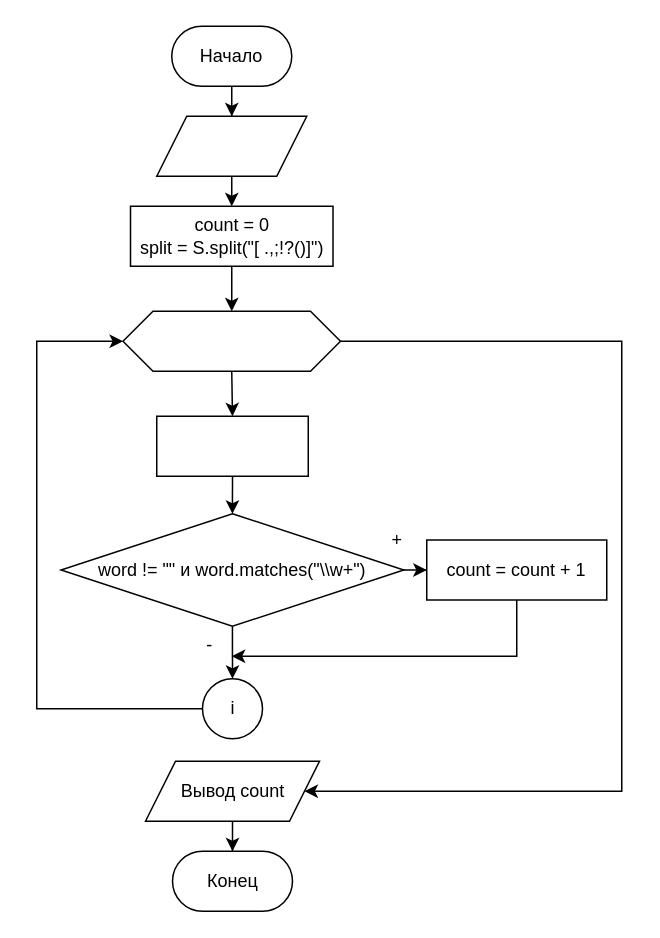
This 660x938 diagram has some shape labels left out. Each missing label, with the centre of its shape:
i = 0, split.length - 1: the point at 231,340
word = split i: the point at 231,445
Ввод S: the point at 231,145
